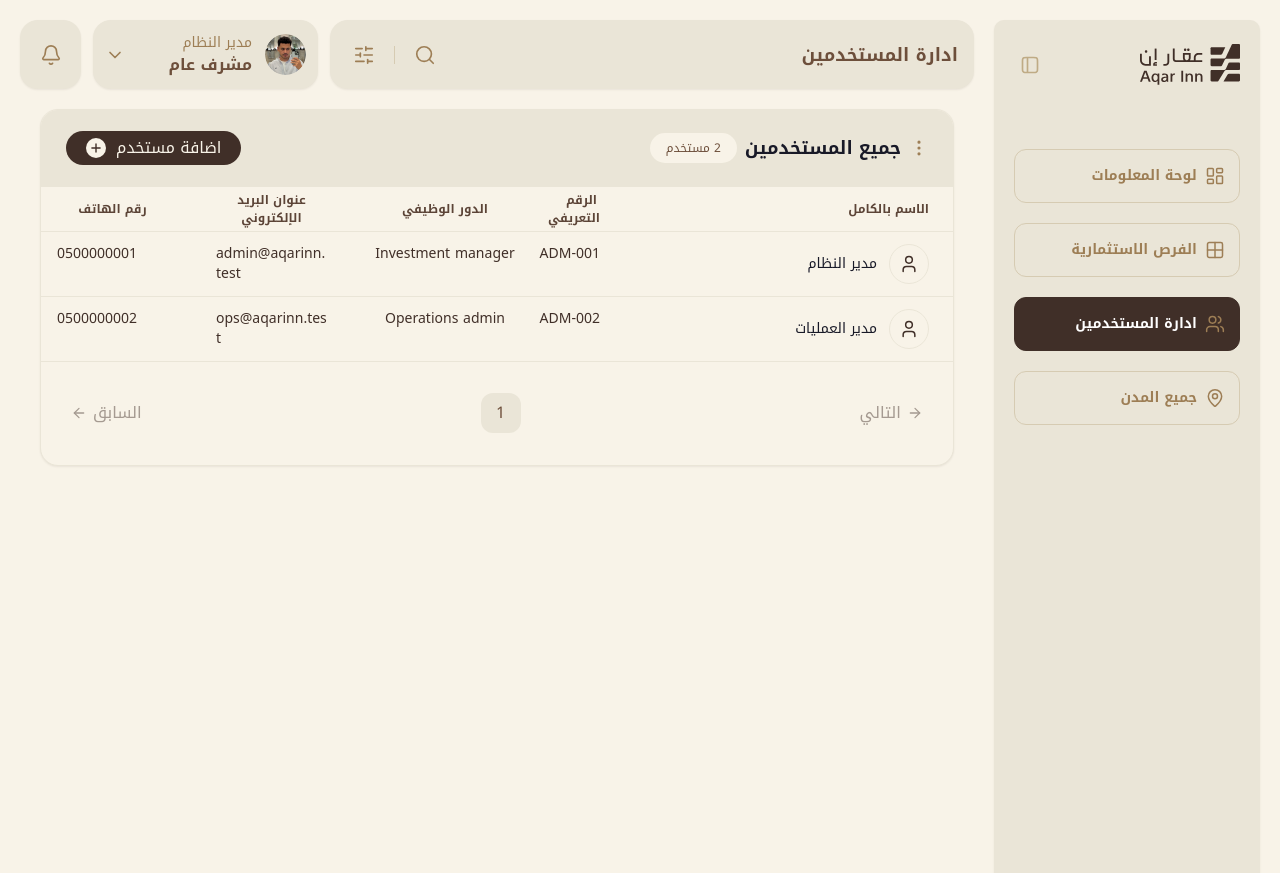
UsersPage route › opens details from list payload and navigates to edit with single-role prefill
Step 1. Click the text "ADM-001" → click(582, 264), box [539, 231, 624, 296]
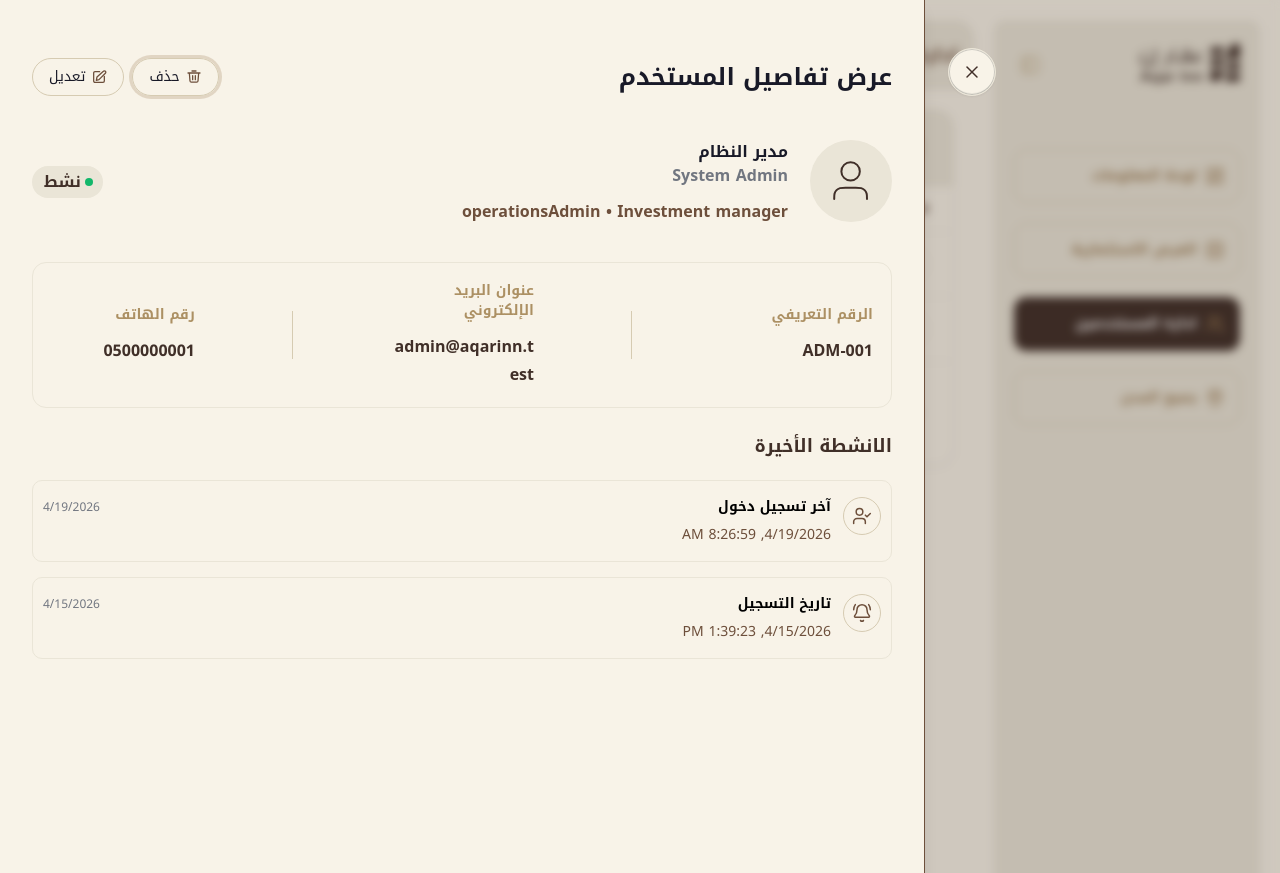
Expected: the button "تعديل" is shown
Step 2. Click the button "تعديل" → click(78, 77), box [32, 58, 124, 96]
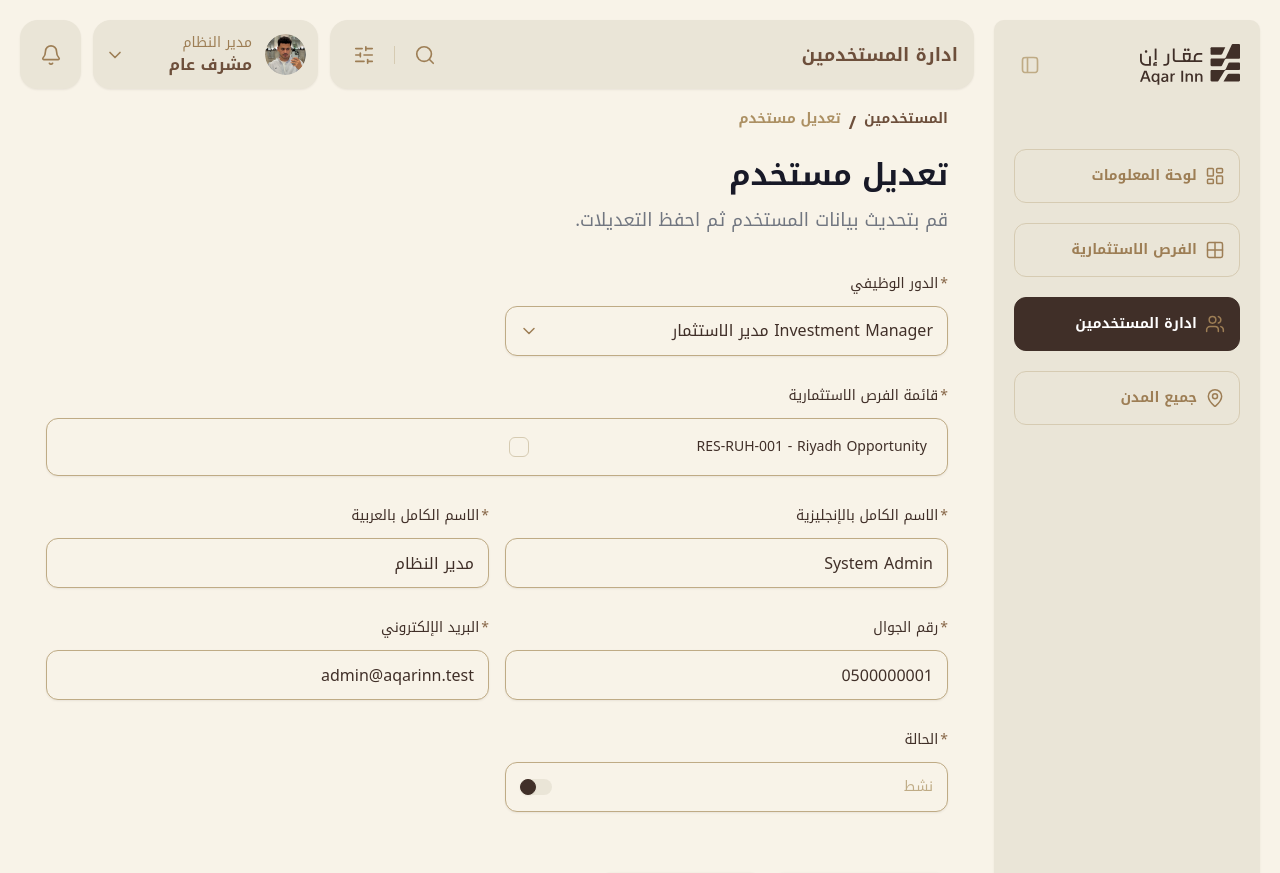
Expected: the button with id "user-role" shows "Investment Manager", [505, 306, 948, 356]
